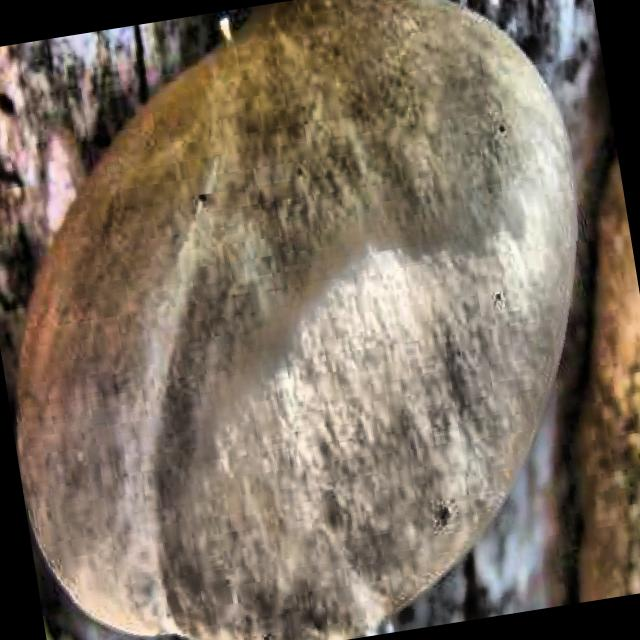Affected: (138, 108, 374, 422)
